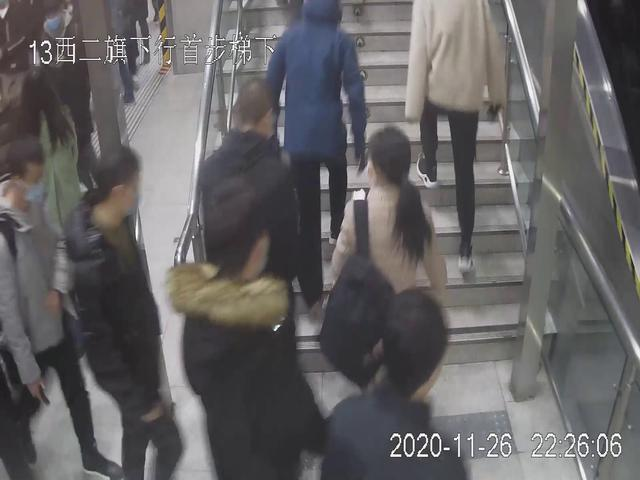person: (165, 174, 325, 480), (60, 142, 186, 477), (1, 133, 123, 478), (324, 121, 450, 421), (406, 1, 512, 278), (261, 1, 370, 260)
